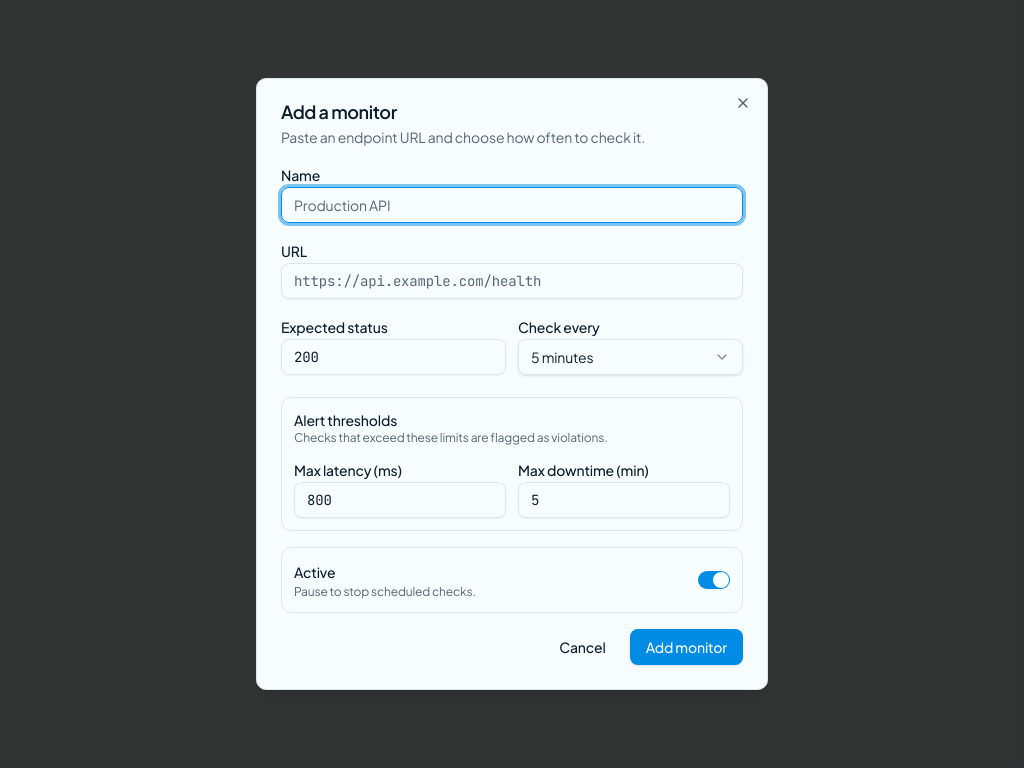
Test: AddEditMonitorModal › shows validation error when name is empty
The width and height of the screenshot is (1024, 768).
# Fill URL but leave name empty
Step 1. Type "https://api.example.com" into the field labelled "URL" → [512, 281], box [281,263,743,299]
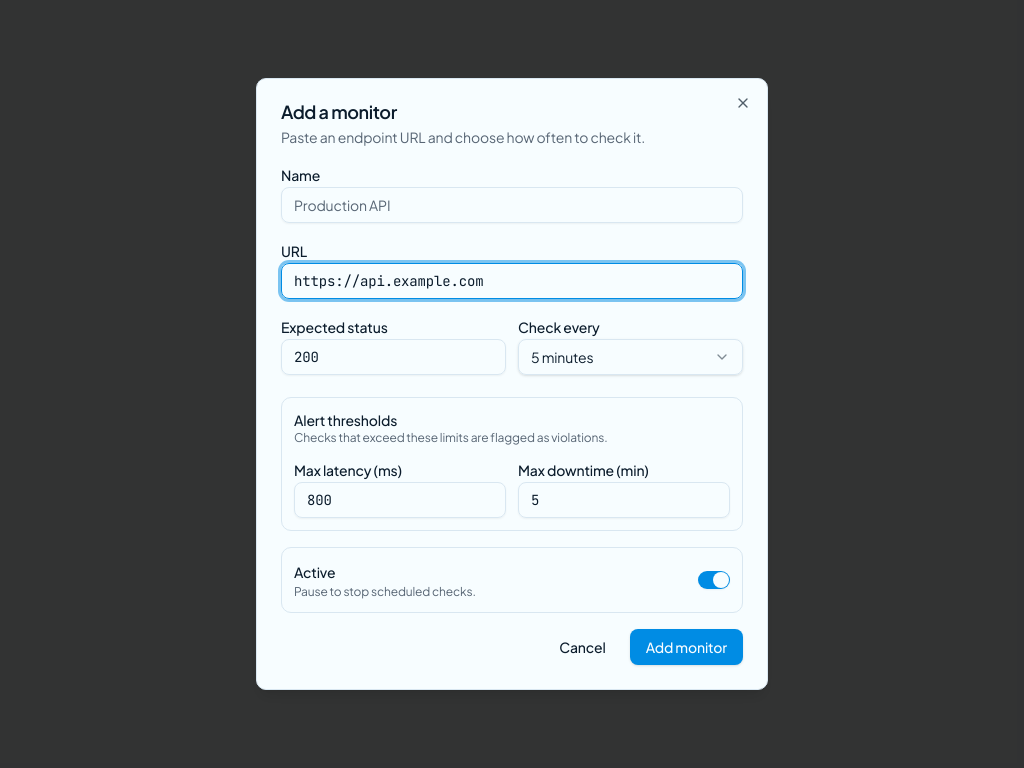
Step 2. Click the button "Add monitor" → [686, 647], box [630,629,743,665]
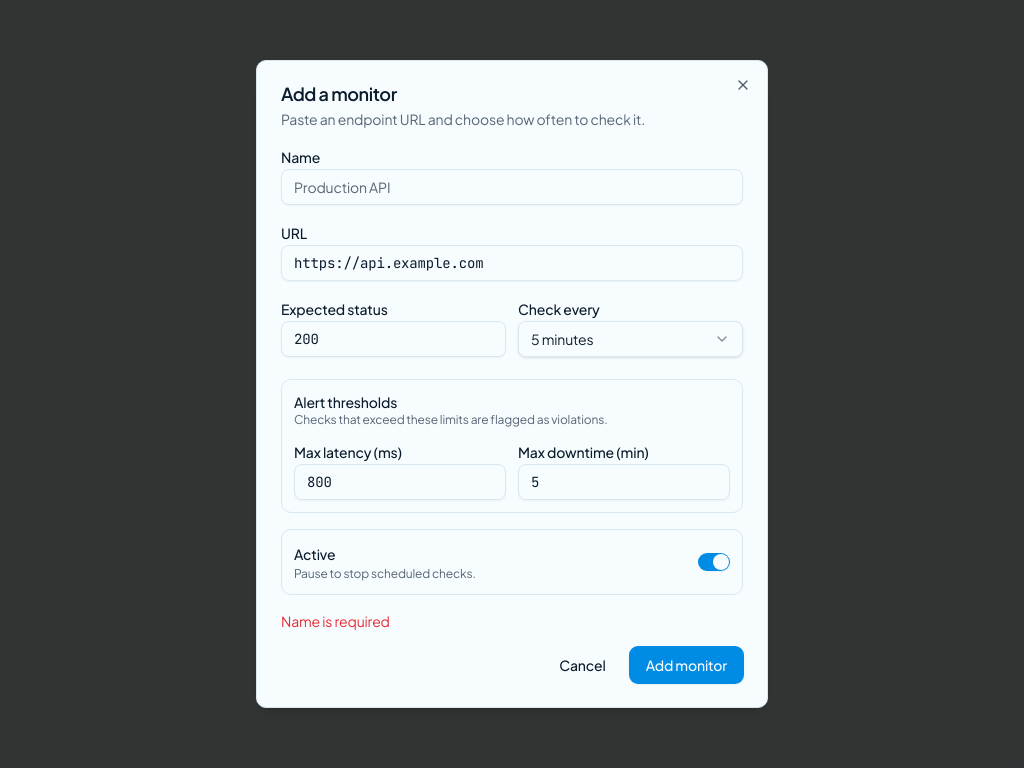
Result: the text "Name is required" is shown at [281,612,390,630]
